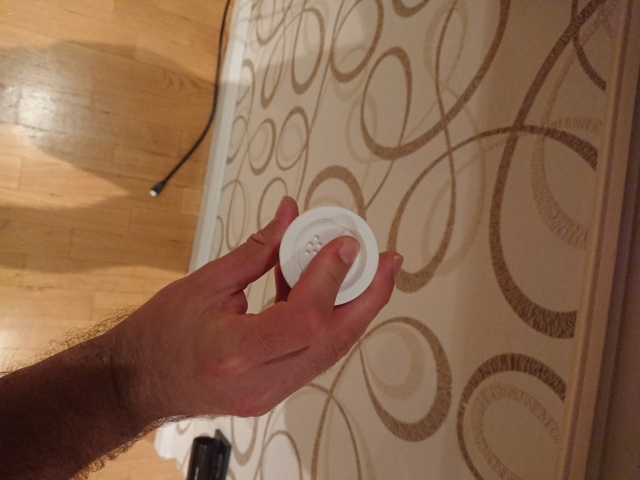Solana Pag Fine Sea Salt 250g: (276, 202, 382, 310)
